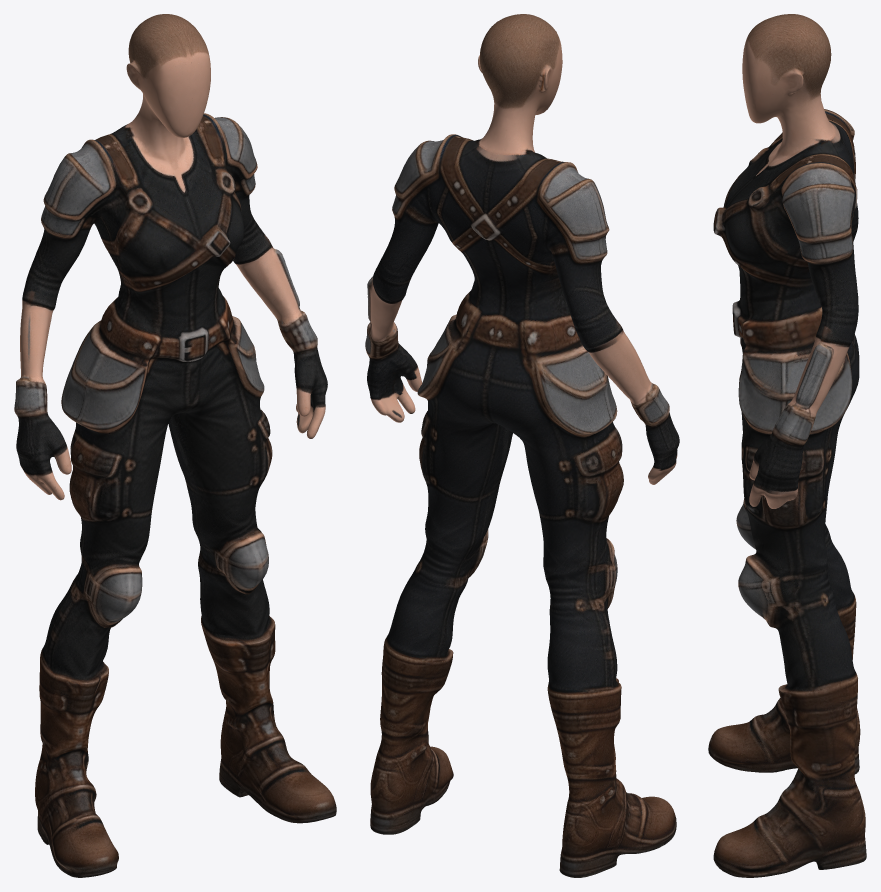
Rendered from Corpo_Feminino_Baixo.glb.
3 views of the same model, side by side, from view 1: azimuth 30°, elevation 25°; view 2: azimuth 150°, elevation 25°; view 3: azimuth 270°, elevation 25° (orthographic). The views are drawn at different scales.
Bounding box in the file's own units: 0.7427 × 1.9 × 0.3427.
1 material, 1 textured.
